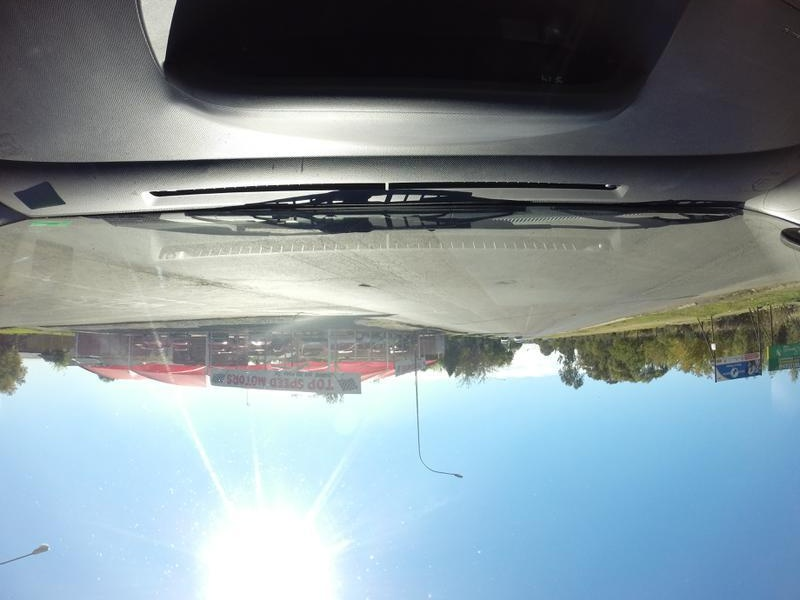pothole: (337, 270, 373, 293)
